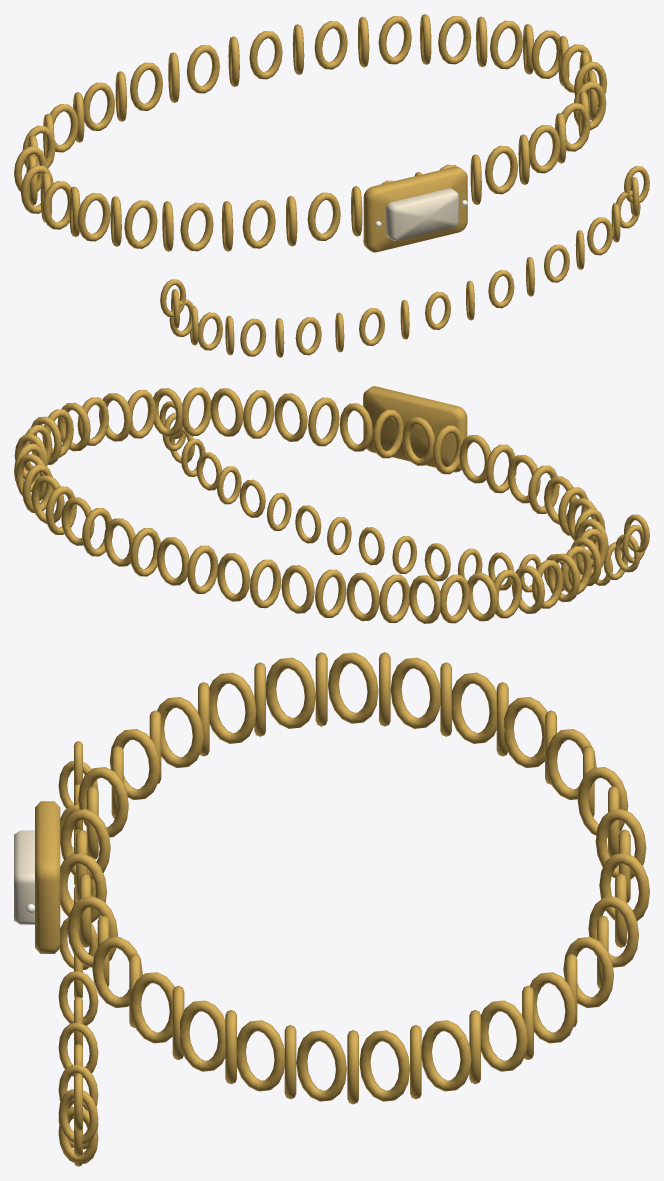
The model's file is prime_chain_belt.glb.
3 views of the same model, one above another, from view 1: azimuth 30°, elevation 25°; view 2: azimuth 150°, elevation 25°; view 3: azimuth 270°, elevation 25° (orthographic). The views are drawn at different scales.
Parts seen in each view (by area): view 1: prime_chain_belt_metal, prime_chain_belt_accent; view 2: prime_chain_belt_metal; view 3: prime_chain_belt_metal, prime_chain_belt_accent.
Part boxes in pixels (<box>): prime_chain_belt_metal: <box>14,14,649,357</box>; prime_chain_belt_accent: <box>386,188,458,240</box>; prime_chain_belt_metal: <box>14,386,649,623</box>; prime_chain_belt_metal: <box>35,652,649,1166</box>; prime_chain_belt_accent: <box>14,830,34,924</box>.
Bounding box in the file's own units: 0.3385 × 0.097 × 0.2269.
